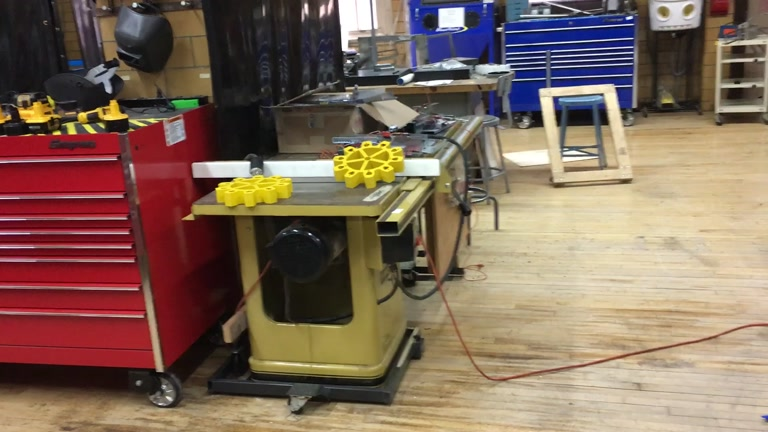gear: (333, 138, 405, 189), (214, 174, 292, 208)
